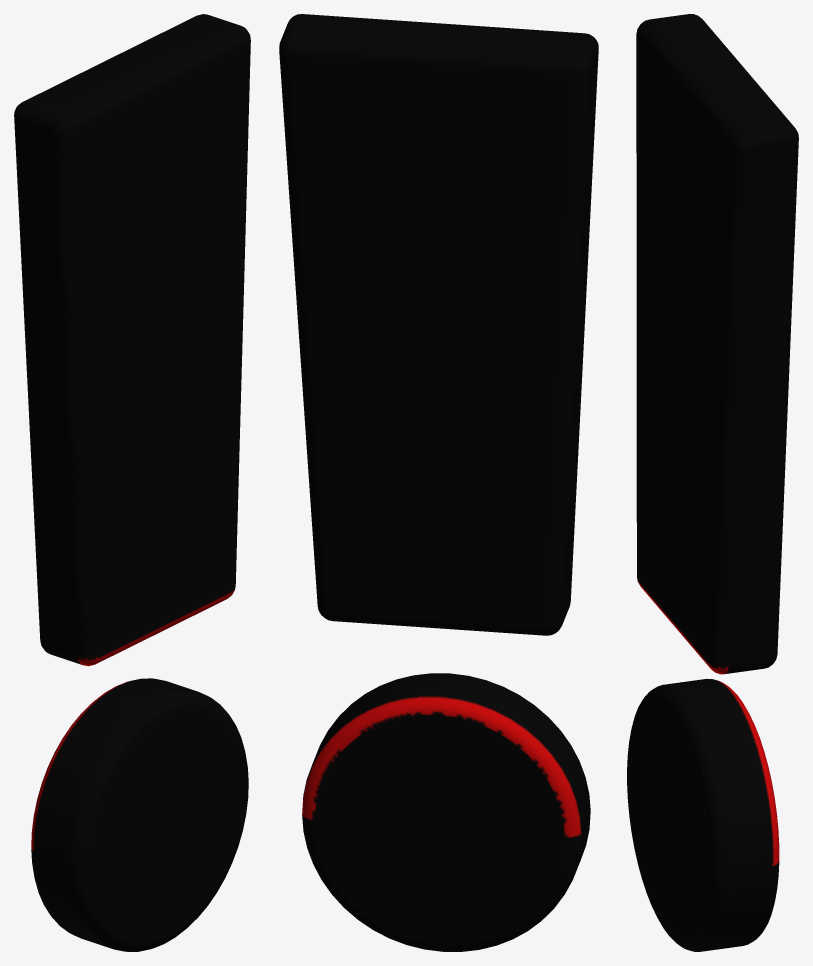
Rendered from warning.glb.
The picture shows the model from 3 angles, left to right: view 1: azimuth 30°, elevation 25°; view 2: azimuth 150°, elevation 25°; view 3: azimuth 270°, elevation 25°; orthographic projection. The views are drawn at different scales.
Parts seen in each view (by area): view 1: node_id5; view 2: node_id5; view 3: node_id5.
Part boxes in pixels (x1,y1,x2,y2): node_id5: [14, 14, 250, 951]; node_id5: [279, 14, 598, 951]; node_id5: [627, 14, 798, 951].
Bounding box in the file's own units: 0.1598 × 0.5127 × 0.0922.
Materials: 1 (1 with a texture image).
